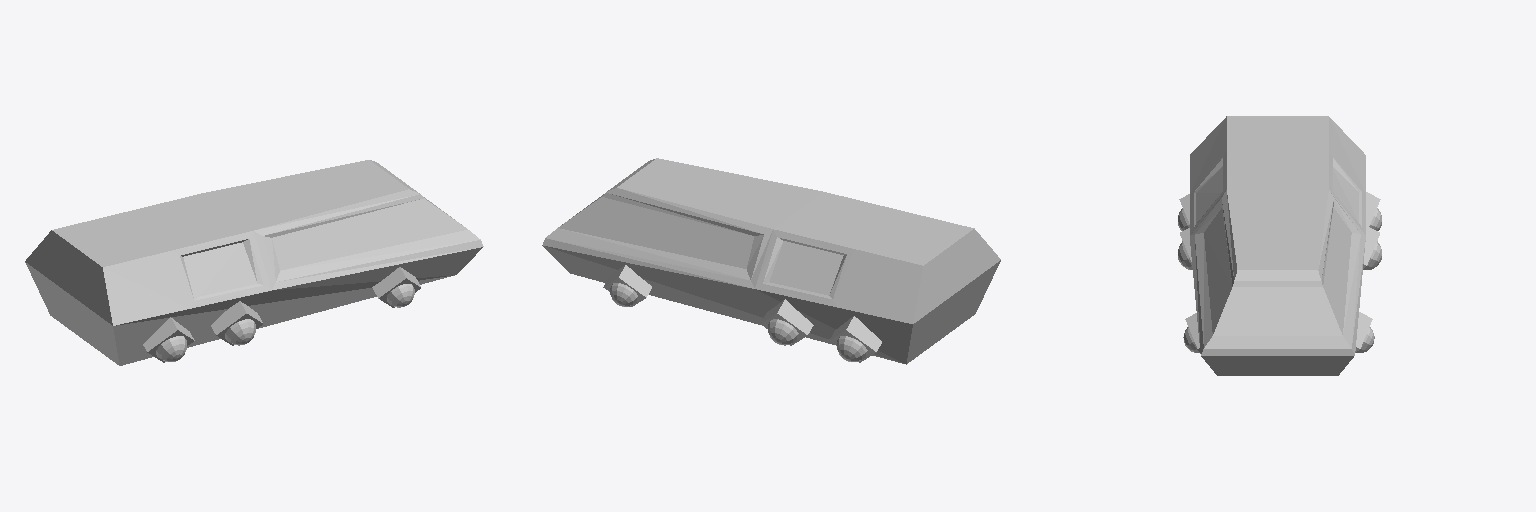
File: aircar_car2.obj
The picture shows the model from 3 angles: view 1: azimuth 30°, elevation 25°; view 2: azimuth 150°, elevation 25°; view 3: azimuth 270°, elevation 25°; orthographic projection.
Visible parts, largest first — view 1: lightgrey, windowlight, darkgrey, whitelight; view 2: lightgrey, windowlight, darkgrey, whitelight; view 3: lightgrey, windowlight, darkgrey, whitelight.
Part boxes in pixels (left/top/right/bottom): lightgrey: left=25, top=160, right=483, bottom=365; windowlight: left=183, top=197, right=467, bottom=296; darkgrey: left=143, top=267, right=420, bottom=362; whitelight: left=156, top=284, right=414, bottom=361; lightgrey: left=542, top=158, right=1000, bottom=364; windowlight: left=558, top=194, right=843, bottom=295; darkgrey: left=603, top=265, right=881, bottom=362; whitelight: left=610, top=283, right=867, bottom=361; lightgrey: left=1190, top=116, right=1365, bottom=375; windowlight: left=1196, top=167, right=1358, bottom=335; darkgrey: left=1179, top=192, right=1380, bottom=352; whitelight: left=1178, top=208, right=1381, bottom=352.
Bounding box in the file's own units: 501 × 132 × 236.